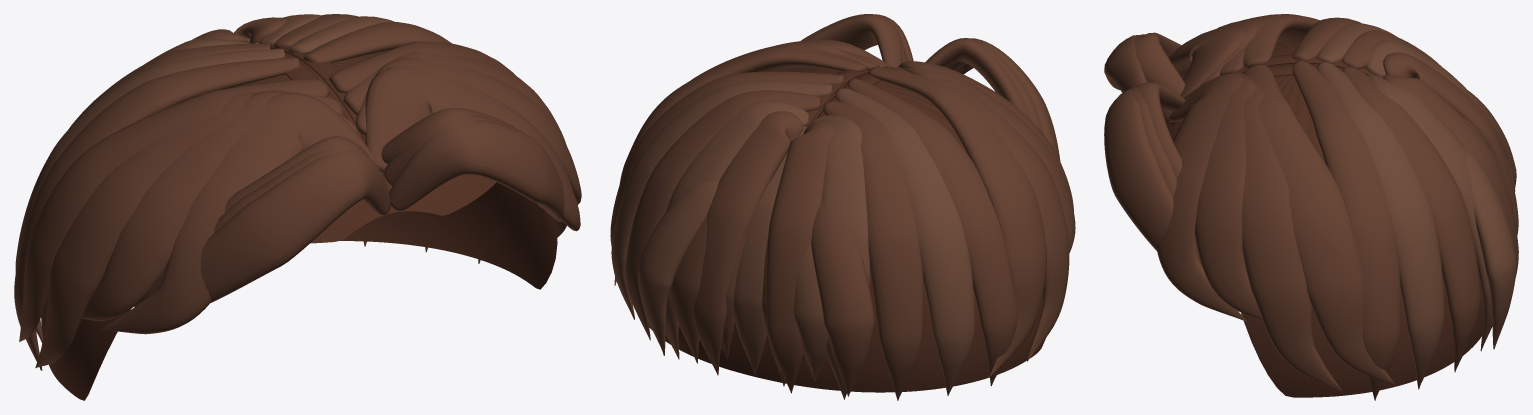
File: Masculine-middle-part-ears251-hair.glb
The picture shows the model from 3 angles, left to right: view 1: azimuth 30°, elevation 25°; view 2: azimuth 150°, elevation 25°; view 3: azimuth 270°, elevation 25°; orthographic projection. The views are drawn at different scales.
Visible parts, largest first — view 1: 226 hair / Hair / chestnut226.002, 226 hair / Hair / recessed roots251.002, 226 hair / Hair / main251.001, 226 hair / Hair / accent251.001, 226 hair / Hair / recessed roots251.003; view 2: 226 hair / Hair / main251.001, 226 hair / Hair / accent251.001, 226 hair / Hair / chestnut226.002, 226 hair / Hair / recessed roots251.002, 226 hair / Hair / recessed roots251.003; view 3: 226 hair / Hair / chestnut226.002, 226 hair / Hair / main251.001, 226 hair / Hair / accent251.001, 226 hair / Hair / recessed roots251.002, 226 hair / Hair / recessed roots251.003.
Boxes of the visible parts, x1,y1,x2,y2 form: 226 hair / Hair / chestnut226.002: [19, 42, 581, 368]; 226 hair / Hair / recessed roots251.002: [41, 51, 557, 400]; 226 hair / Hair / main251.001: [14, 14, 480, 370]; 226 hair / Hair / accent251.001: [15, 14, 427, 343]; 226 hair / Hair / recessed roots251.003: [270, 45, 384, 176]; 226 hair / Hair / main251.001: [610, 71, 1017, 400]; 226 hair / Hair / accent251.001: [611, 80, 974, 399]; 226 hair / Hair / chestnut226.002: [614, 14, 1075, 377]; 226 hair / Hair / recessed roots251.002: [648, 68, 1045, 392]; 226 hair / Hair / recessed roots251.003: [806, 69, 880, 126]; 226 hair / Hair / chestnut226.002: [1104, 14, 1395, 391]; 226 hair / Hair / main251.001: [1292, 17, 1518, 400]; 226 hair / Hair / accent251.001: [1317, 23, 1516, 389]; 226 hair / Hair / recessed roots251.002: [1166, 42, 1483, 397]; 226 hair / Hair / recessed roots251.003: [1171, 54, 1373, 125].
Size of the model in its own units: 1.07 by 0.5895 by 0.8758.
